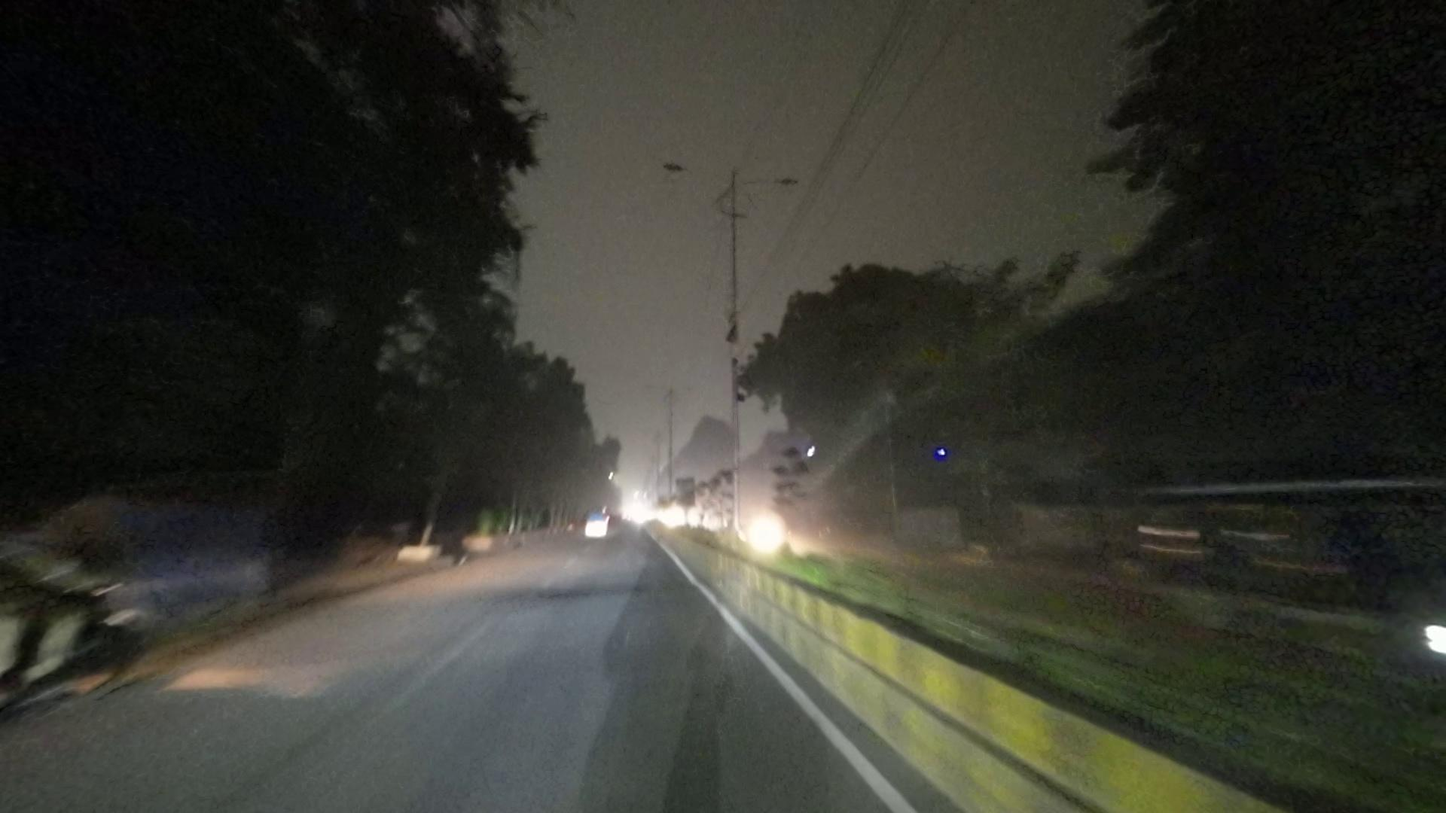streetlight: (660, 159, 728, 184), (742, 174, 800, 192)
